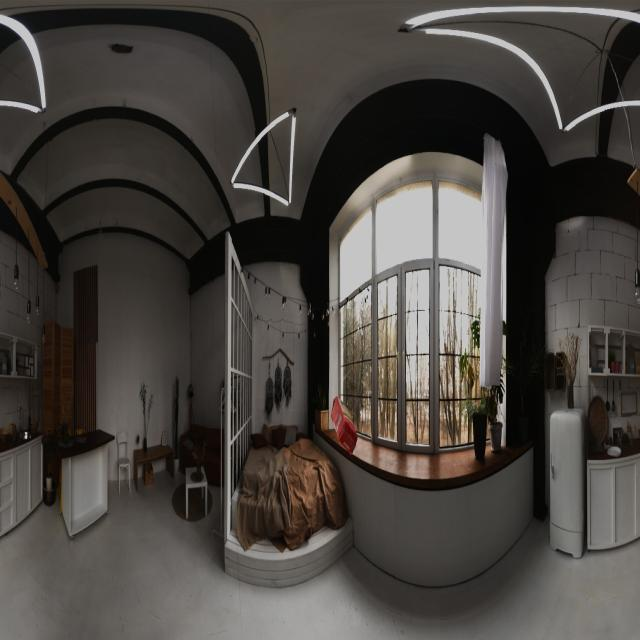mate bag: (330, 397, 358, 454)
